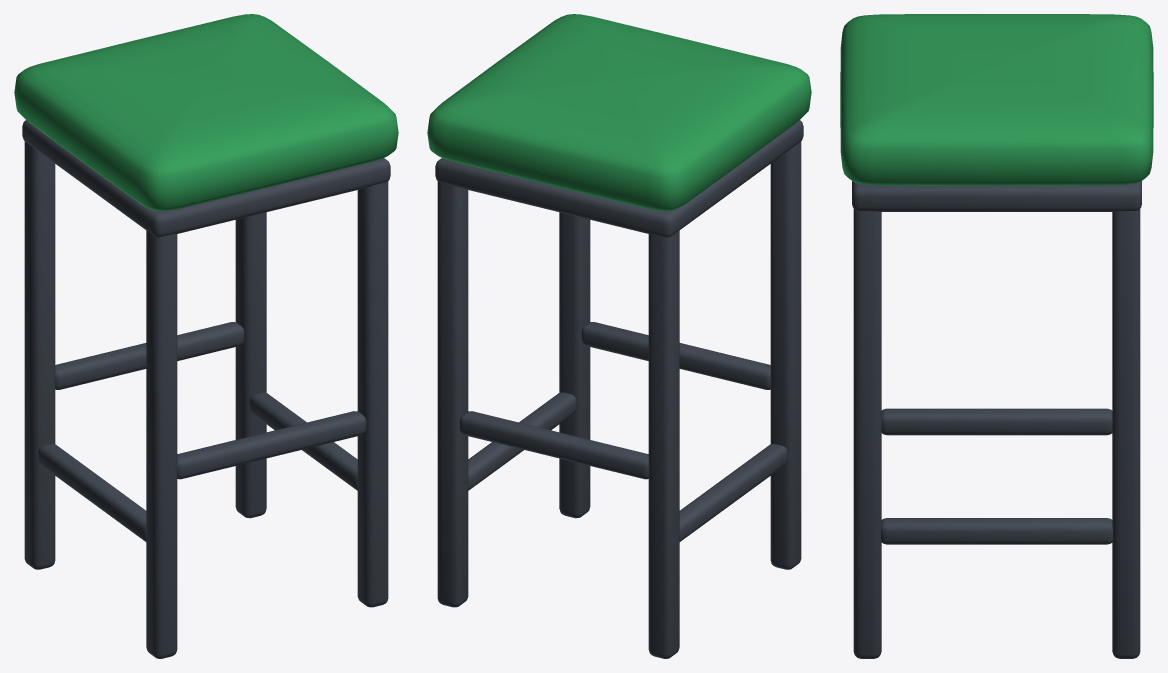
File: banqueta_bar_quadrada_verde.glb
3 renders of one model, left to right at view 1: azimuth 30°, elevation 25°; view 2: azimuth 150°, elevation 25°; view 3: azimuth 270°, elevation 25°, orthographic. The views are drawn at different scales.
Parts seen in each view (by area): view 1: banqueta_bar_quadrada_verde; view 2: banqueta_bar_quadrada_verde; view 3: banqueta_bar_quadrada_verde.
Boxes of the visible parts, bbox=[...] form: banqueta_bar_quadrada_verde: bbox=[14, 14, 398, 658]; banqueta_bar_quadrada_verde: bbox=[427, 14, 811, 658]; banqueta_bar_quadrada_verde: bbox=[840, 14, 1153, 658].
Size of the model in its own units: 0.4 by 0.755 by 0.4.
Materials: 1 (1 with a texture image).
